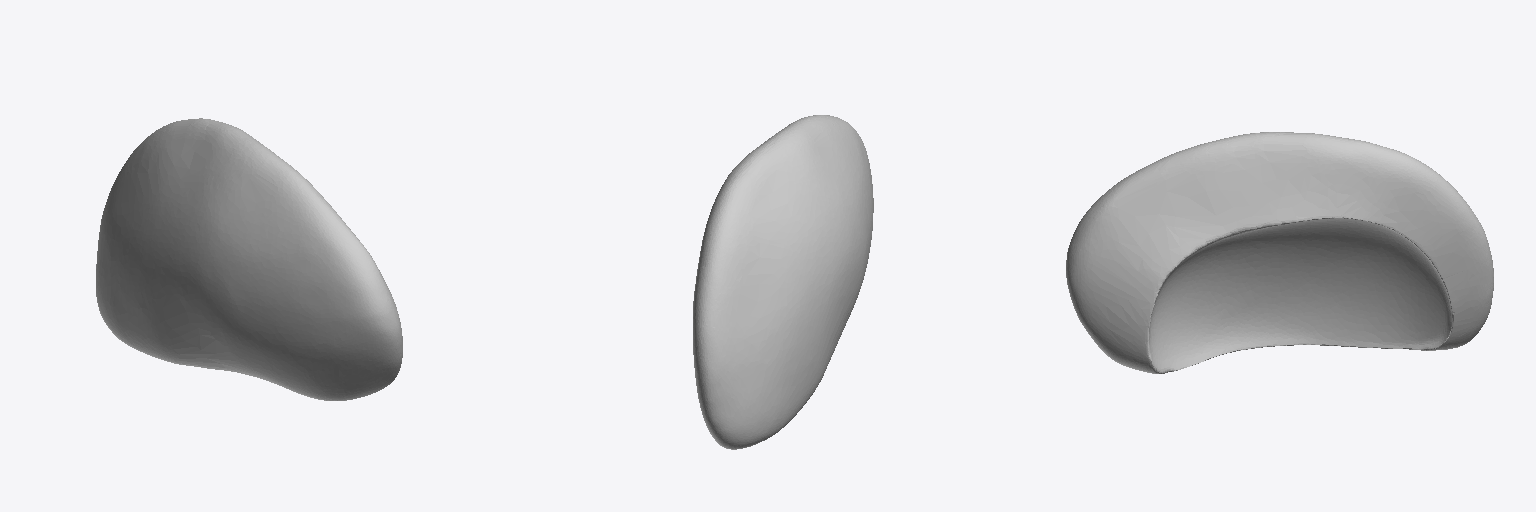
File: Left_putamen1.obj
3 views of the same model, side by side, from view 1: azimuth 30°, elevation 25°; view 2: azimuth 150°, elevation 25°; view 3: azimuth 270°, elevation 25° (orthographic).
Visible parts, largest first — view 1: obj0; view 2: obj0; view 3: obj0.
Part boxes in pixels (bbox=[...]): obj0: bbox=[96, 118, 402, 400]; obj0: bbox=[693, 115, 873, 449]; obj0: bbox=[1066, 132, 1493, 373].
Size of the model in its own units: 8.72 by 12.45 by 20.43.